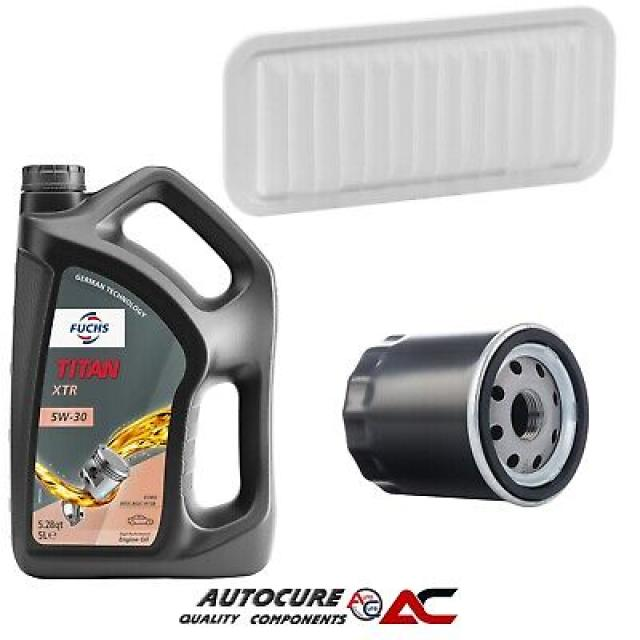air_filter: (220, 5, 619, 221)
motor_oil: (7, 153, 274, 586)
oil_filter: (339, 322, 593, 508)
